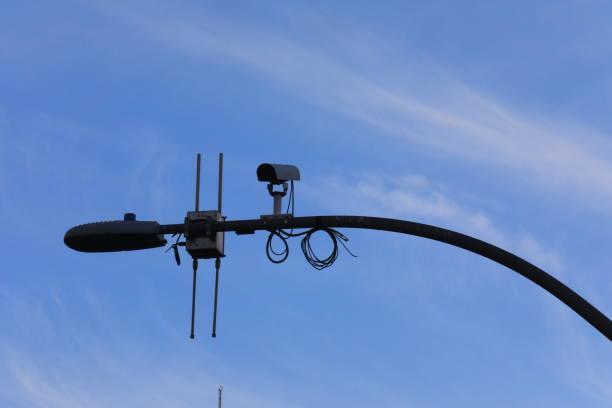camera: (231, 153, 317, 213)
